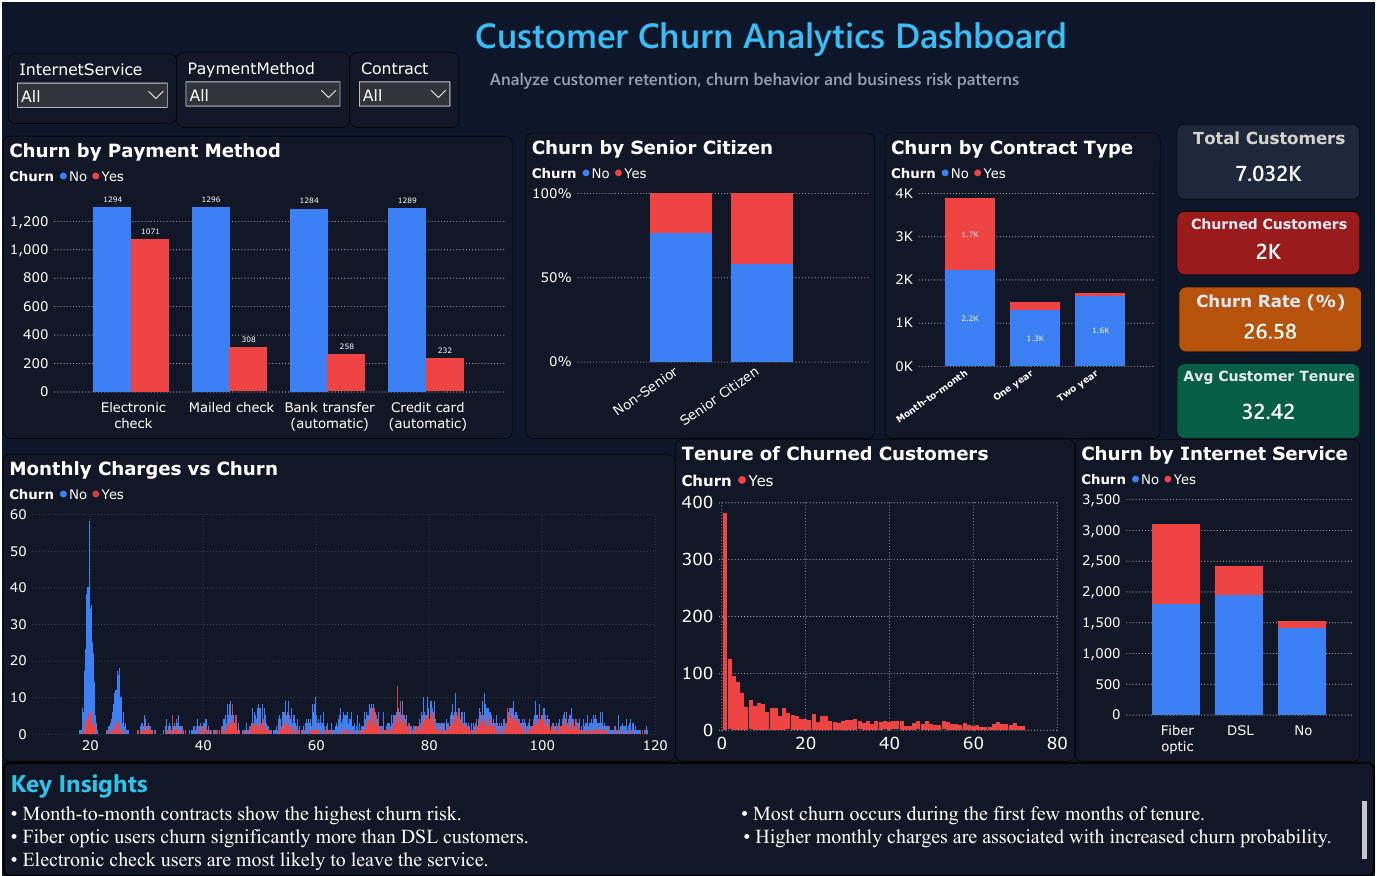

This screenshot's page, from the dashboard's own definition file:
{"tool":"powerbi","page":{"name":"Page 1","canvas":[2200,1400],"ordinal":0},"visuals":[{"type":"cardVisual","title":"Total Customers","fields":{"Data":["Count(cleaned_churn_data.customerID)"]},"box":[1881.9,194.5,294.4,120.9],"z":0},{"type":"cardVisual","title":"Churned Customers","fields":{"Data":["cleaned_churn_data.Churned Customers"]},"box":[1881.9,333.8,294.4,102.5],"z":1000},{"type":"cardVisual","title":"Churn Rate (%)","fields":{"Data":["cleaned_churn_data.Churn Rate %"]},"box":[1884.5,454.7,294.4,105.1],"z":2000},{"type":"cardVisual","title":"Avg Customer Tenure","fields":{"Data":["cleaned_churn_data.Average Tenure"]},"box":[1881.9,578.2,294.4,120.9],"z":3000},{"type":"textbox","box":[714.9,7.9,1032.9,89.4],"z":4000},{"type":"textbox","box":[757,97.2,896.3,49.9],"z":5000},{"type":"columnChart","title":"Churn by Contract Type","fields":{"Category":["cleaned_churn_data.Contract"],"Y":["CountNonNull(cleaned_churn_data.customerID)"],"Series":["cleaned_churn_data.Churn"]},"box":[1414,207.6,441.6,491.5],"z":6000},{"type":"columnChart","title":"Churn by Internet Service","fields":{"Category":["cleaned_churn_data.InternetService"],"Y":["CountNonNull(cleaned_churn_data.customerID)"],"Series":["cleaned_churn_data.Churn"]},"box":[1718.9,699.1,457.3,517.8],"z":7000},{"type":"clusteredColumnChart","title":"Churn by Payment Method","fields":{"Category":["cleaned_churn_data.PaymentMethod"],"Y":["CountNonNull(cleaned_churn_data.customerID)"],"Series":["cleaned_churn_data.Churn"]},"box":[0,212.9,817.4,486.2],"z":8000},{"type":"clusteredColumnChart","title":"Tenure of Churned Customers","fields":{"Category":["cleaned_churn_data.tenure"],"Y":["CountNonNull(cleaned_churn_data.customerID)"],"Series":["cleaned_churn_data.Churn"]},"box":[1077.6,699.1,641.3,517.8],"z":9000},{"type":"hundredPercentStackedColumnChart","title":"Churn by Senior Citizen","fields":{"Y":["CountNonNull(cleaned_churn_data.customerID)"],"Series":["cleaned_churn_data.Churn"],"Category":["cleaned_churn_data.Senior Citizen Type"]},"box":[838.4,207.6,559.8,491.5],"z":10000},{"type":"clusteredColumnChart","title":"Monthly Charges vs Churn","fields":{"Category":["cleaned_churn_data.MonthlyCharges"],"Y":["CountNonNull(cleaned_churn_data.customerID)"],"Series":["cleaned_churn_data.Churn"]},"box":[0,722.8,1077.6,494.1],"z":11000},{"type":"slicer","fields":{"Values":["cleaned_churn_data.Contract"]},"box":[556.3,78.9,176.1,120.9],"z":12000},{"type":"slicer","fields":{"Values":["cleaned_churn_data.InternetService"]},"box":[7.9,81.5,270.7,113],"z":13000},{"type":"slicer","fields":{"Values":["cleaned_churn_data.PaymentMethod"]},"box":[277.7,78.9,278.6,120.9],"z":14000},{"type":"textbox","title":"Key Insights","box":[0,1216.9,2199.9,184],"z":15000}]}

Visuals, with their boxes in screenshot pixels (x1, y1, x2, y2), scaled from the page's 2200x1400 canvas onto the 1377x876 screenshot:
"Total Customers" cardVisual: 1178, 122, 1362, 197
"Churned Customers" cardVisual: 1178, 209, 1362, 273
"Churn Rate (%)" cardVisual: 1180, 285, 1364, 350
"Avg Customer Tenure" cardVisual: 1178, 362, 1362, 437
textbox: 447, 5, 1094, 61
textbox: 474, 61, 1035, 92
"Churn by Contract Type" columnChart: 885, 130, 1161, 437
"Churn by Internet Service" columnChart: 1076, 437, 1362, 761
"Churn by Payment Method" clusteredColumnChart: 0, 133, 512, 437
"Tenure of Churned Customers" clusteredColumnChart: 674, 437, 1076, 761
"Churn by Senior Citizen" hundredPercentStackedColumnChart: 525, 130, 875, 437
"Monthly Charges vs Churn" clusteredColumnChart: 0, 452, 674, 761
slicer - cleaned_churn_data.Contract: 348, 49, 458, 125
slicer - cleaned_churn_data.InternetService: 5, 51, 174, 122
slicer - cleaned_churn_data.PaymentMethod: 174, 49, 348, 125
"Key Insights" textbox: 0, 761, 1376, 875
